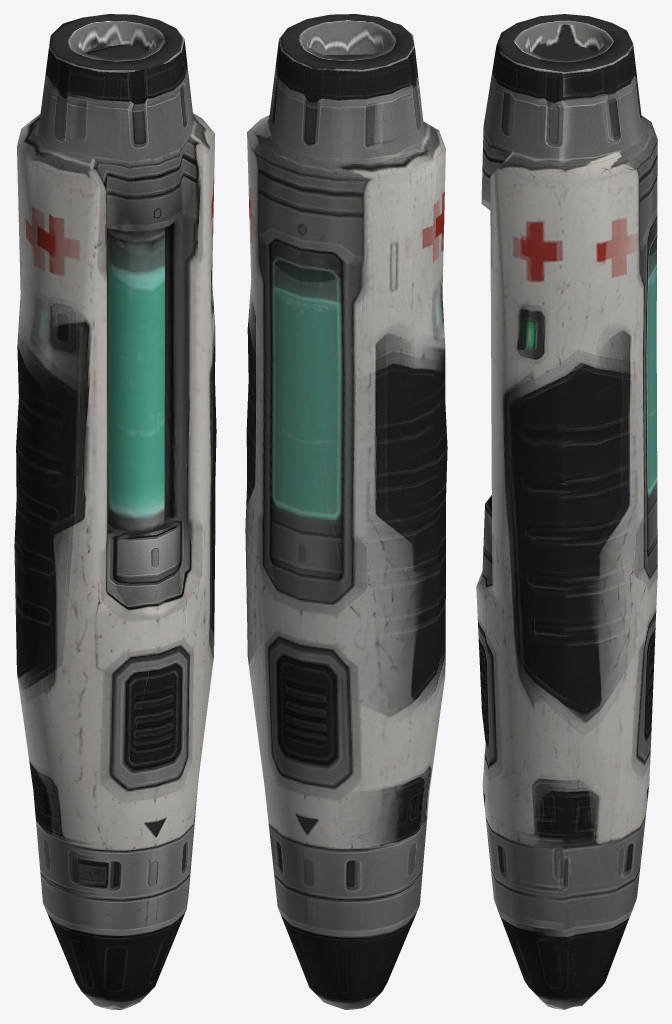
Rendered from med-stim.glb.
3 renders of one model, left to right at view 1: azimuth 30°, elevation 25°; view 2: azimuth 150°, elevation 25°; view 3: azimuth 270°, elevation 25°, orthographic.
Parts seen in each view (by area): view 1: med-stim; view 2: med-stim; view 3: med-stim.
Boxes of the visible parts, x1,y1,x2,y2 form: med-stim: [14, 14, 216, 1009]; med-stim: [245, 14, 447, 1009]; med-stim: [476, 14, 657, 1009].
Bounding box in the file's own units: 0.0323 × 0.16 × 0.0274.
1 material, 1 textured.
